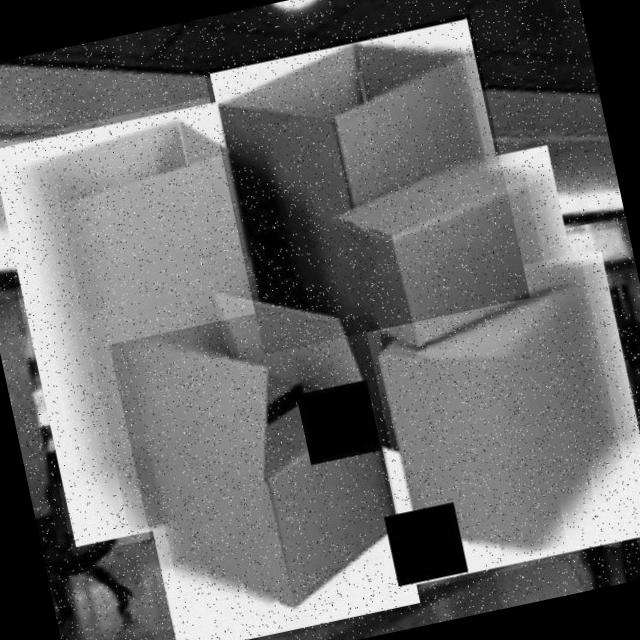box: (0, 92, 314, 555), (203, 13, 530, 354), (108, 291, 424, 640), (347, 247, 640, 591), (314, 140, 592, 384)
